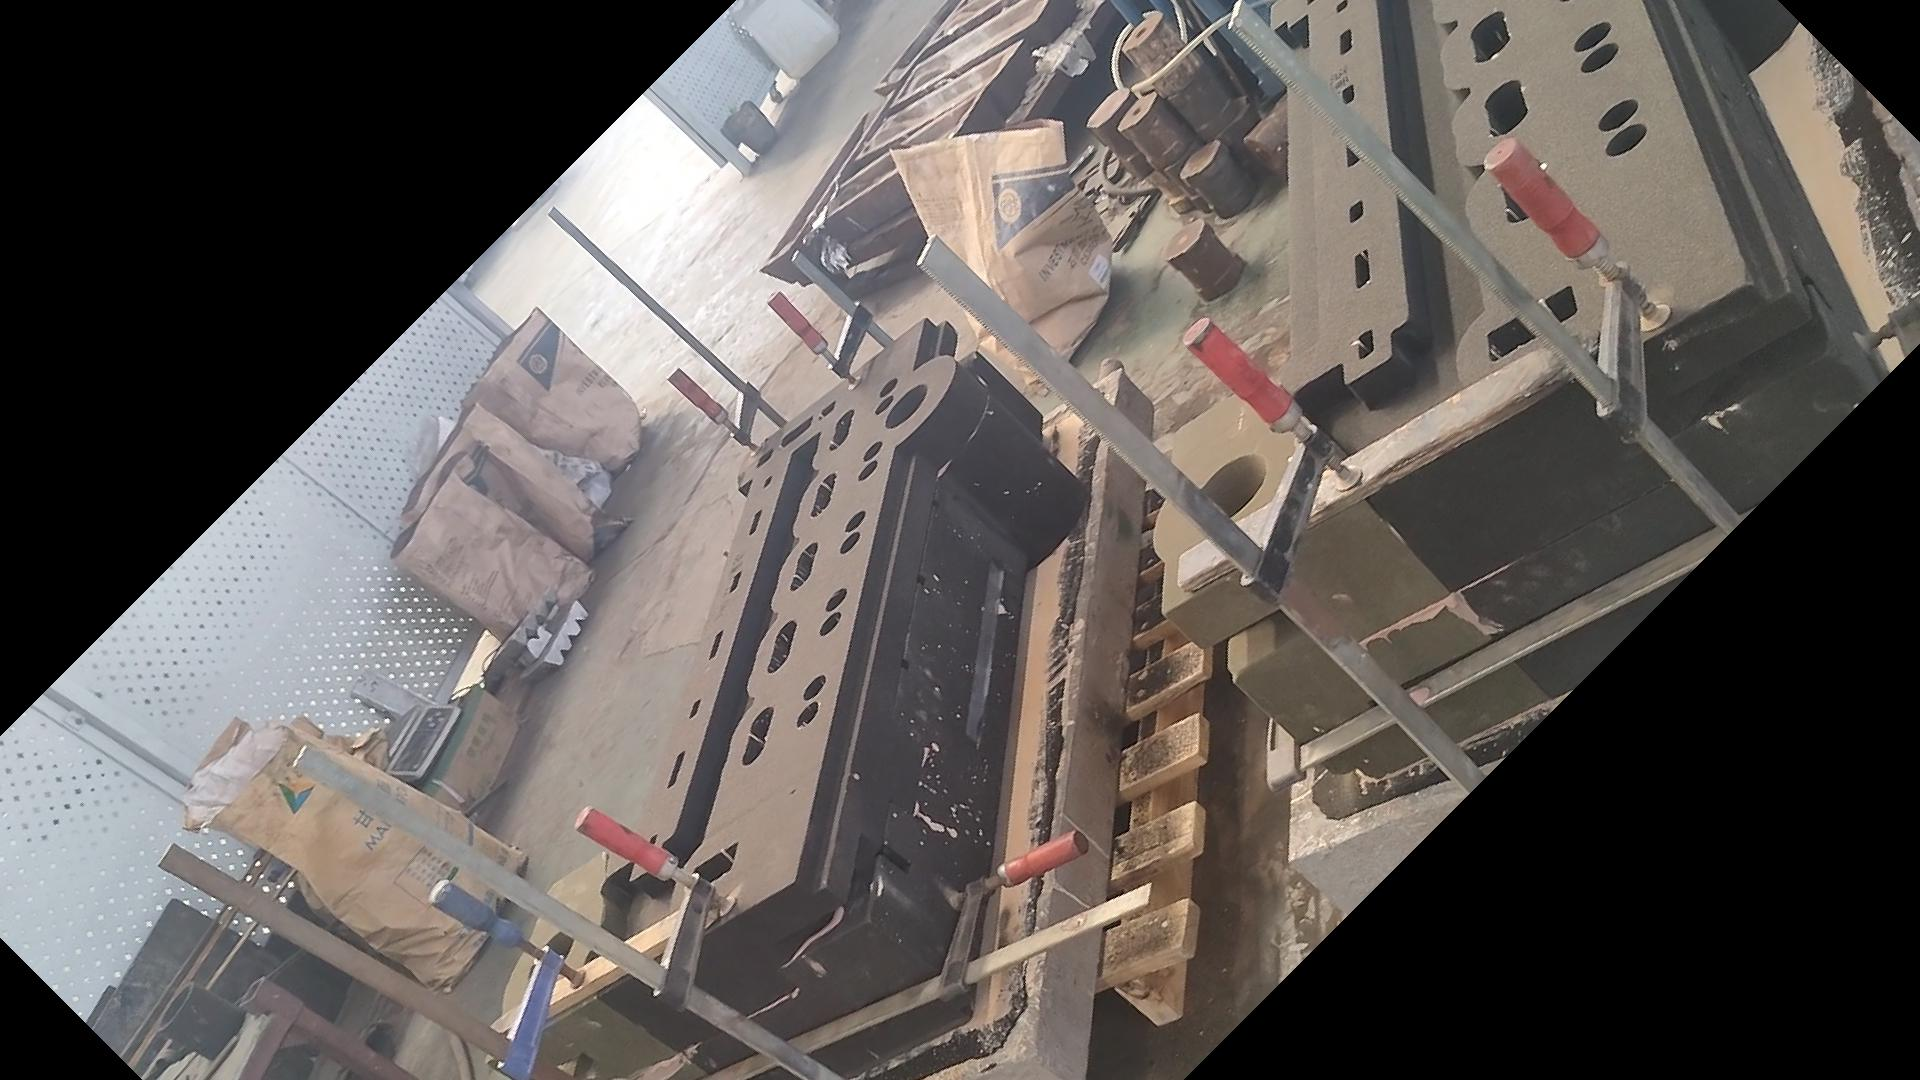pouring hole: (1191, 454, 1267, 522), (526, 924, 591, 998), (885, 384, 928, 429), (156, 982, 193, 1034)
